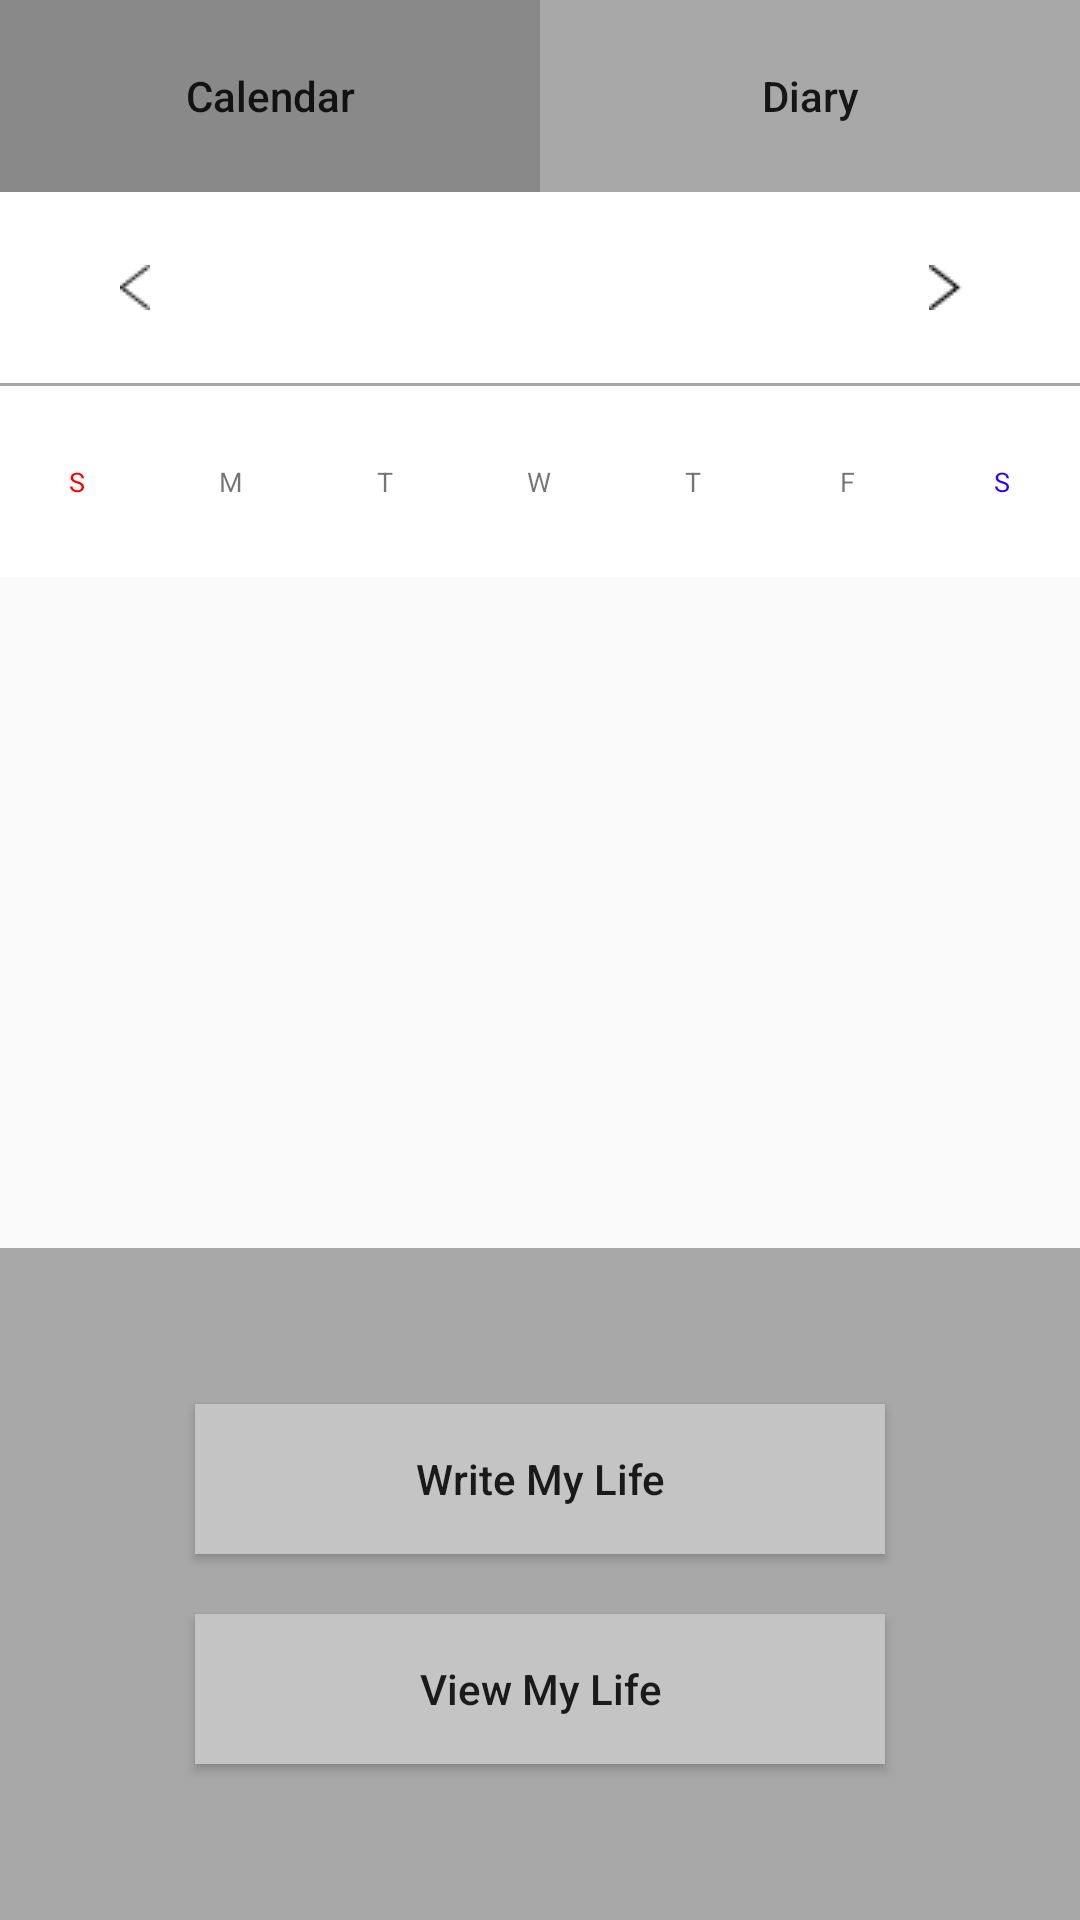

Screen size 1080w x 1920h. Icon name, then its box in pixels as bbox=[x1, y1, x2, y2]:
back: bbox=[120, 265, 150, 310]
next: bbox=[929, 265, 962, 310]
